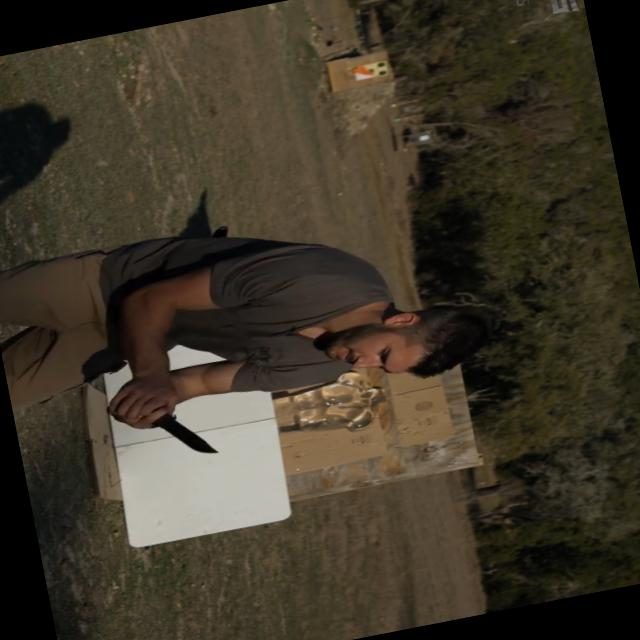knife: (103, 369, 224, 476)
